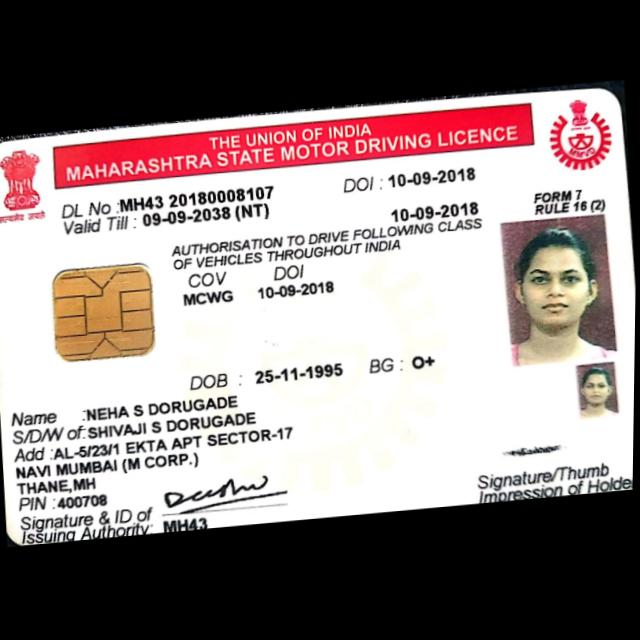driving_licence: (0, 84, 639, 546)
